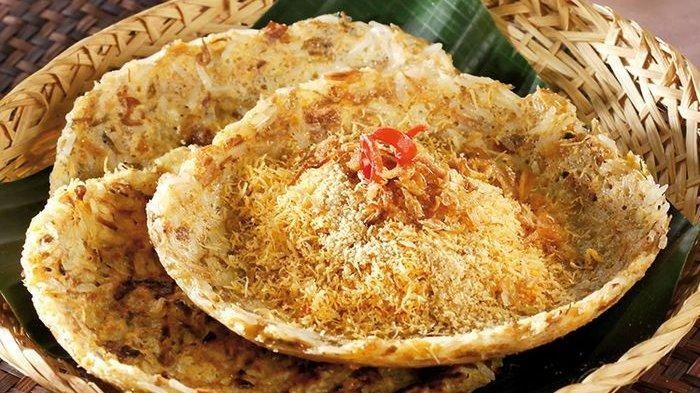kerak_telor: (23, 15, 669, 391)
